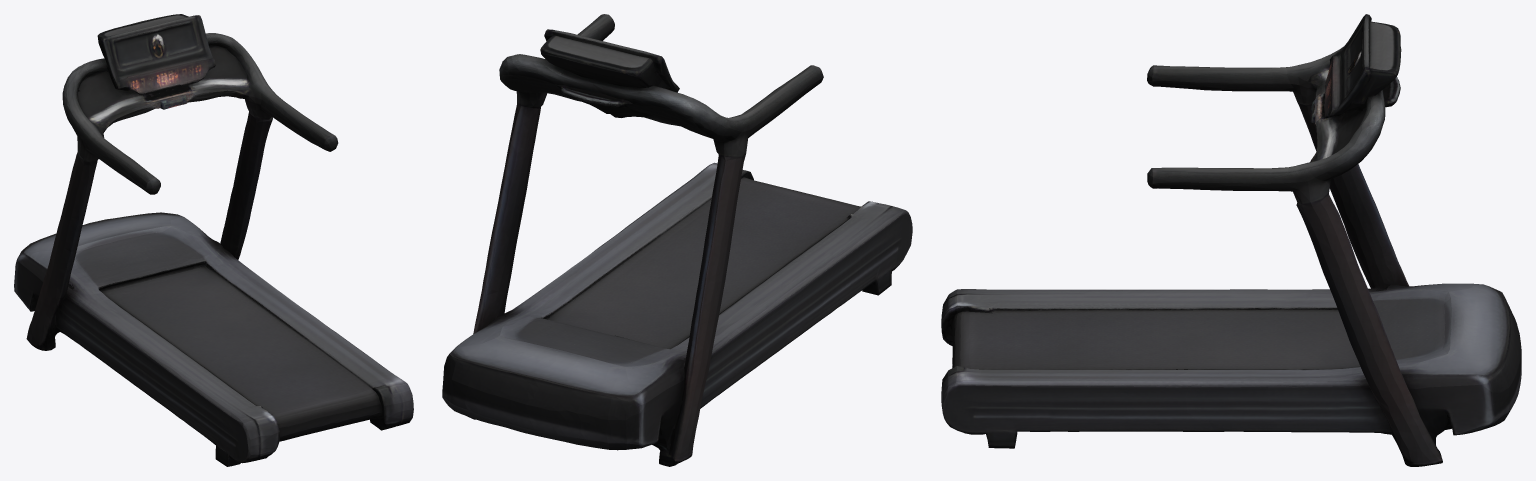
3 renders of one model, left to right at view 1: azimuth 30°, elevation 25°; view 2: azimuth 150°, elevation 25°; view 3: azimuth 270°, elevation 25°, orthographic. The views are drawn at different scales.
Parts seen in each view (by area): view 1: world; view 2: world; view 3: world.
Boxes of the visible parts, x1,y1,x2,y2 form: world: (14,14,413,466); world: (442,14,912,466); world: (941,14,1521,466).
Bounding box in the file's own units: 0.4514 × 0.7136 × 1.
1 material, 1 textured.
